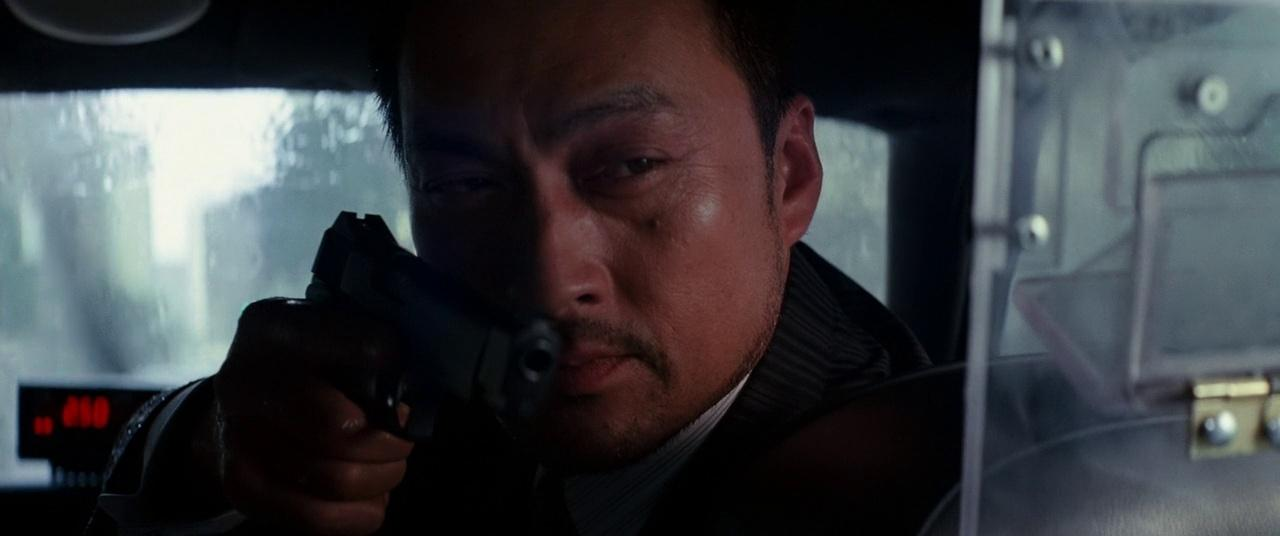gun: (235, 206, 560, 529)
